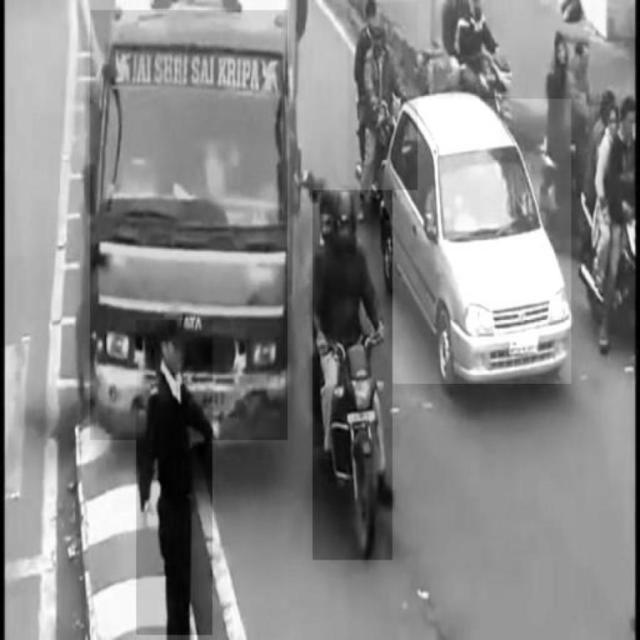person: (136, 320, 212, 634)
vehicle: (90, 10, 287, 440), (382, 99, 572, 383), (314, 190, 394, 560), (348, 3, 418, 190)
